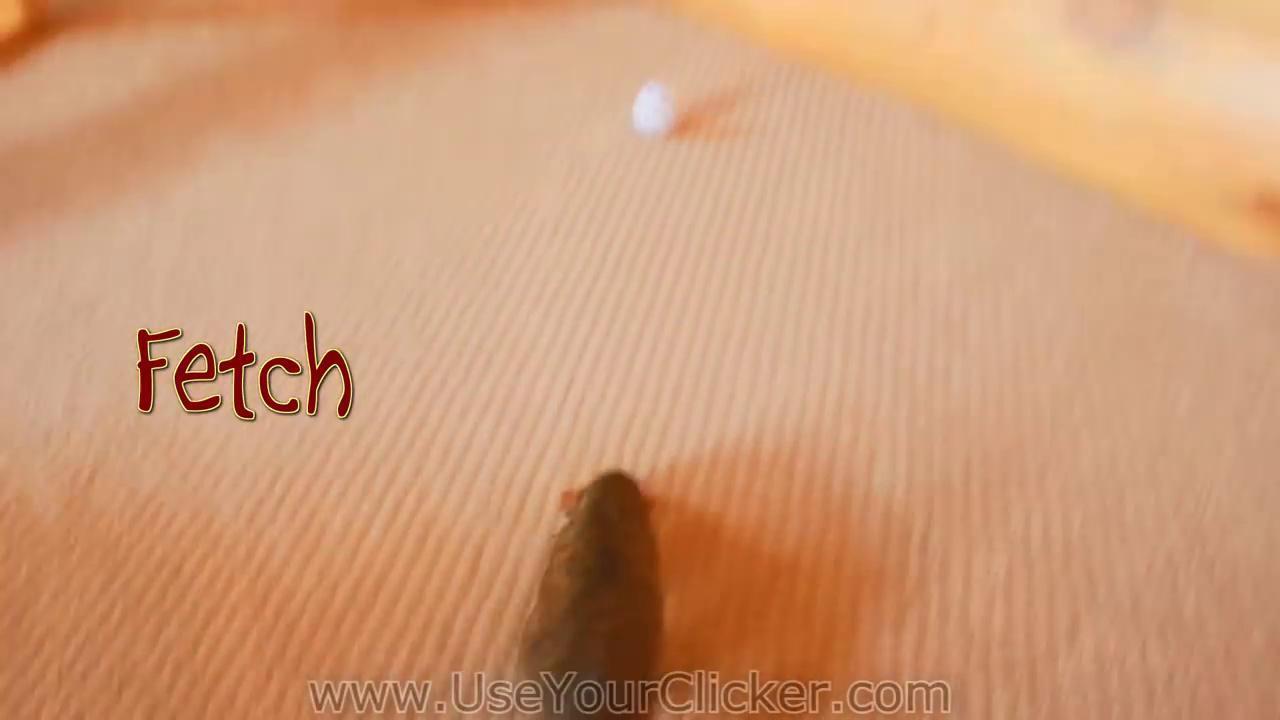rat: (518, 470, 666, 720)
